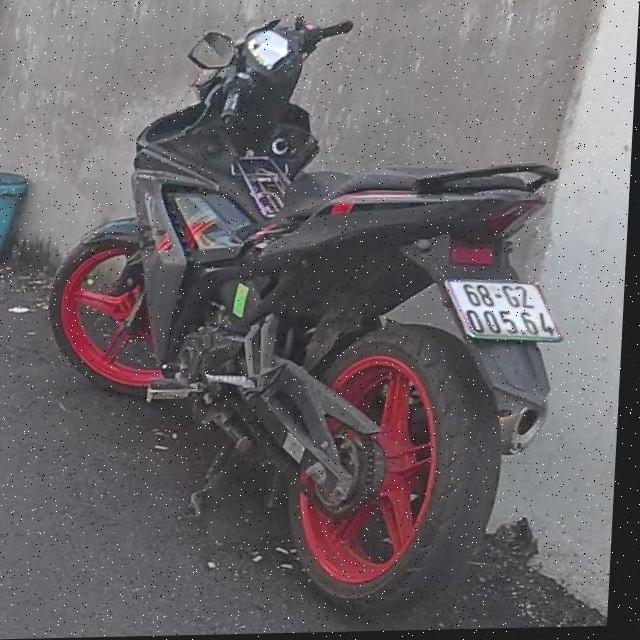motorcycle: (30, 11, 583, 619)
plate: (437, 264, 570, 350)
